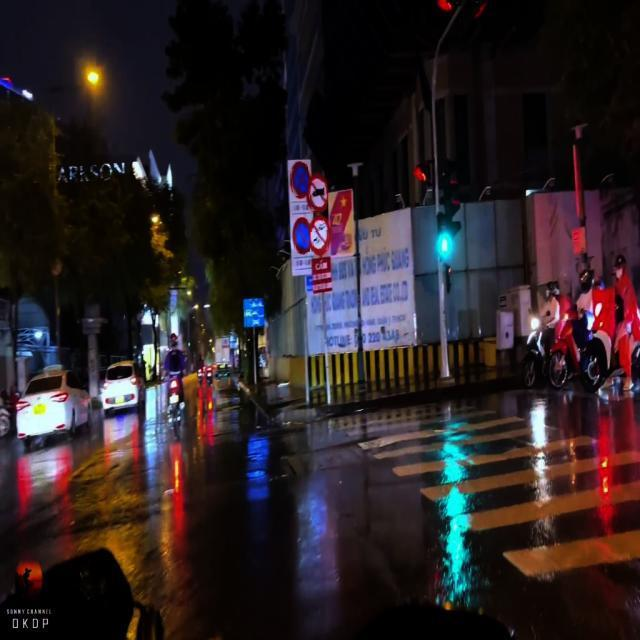106-cam-oto-tai: (308, 176, 327, 211)
130-cam-dung-va-do-xe: (290, 161, 310, 197)
131a-cam-do-xe: (292, 218, 314, 254)
